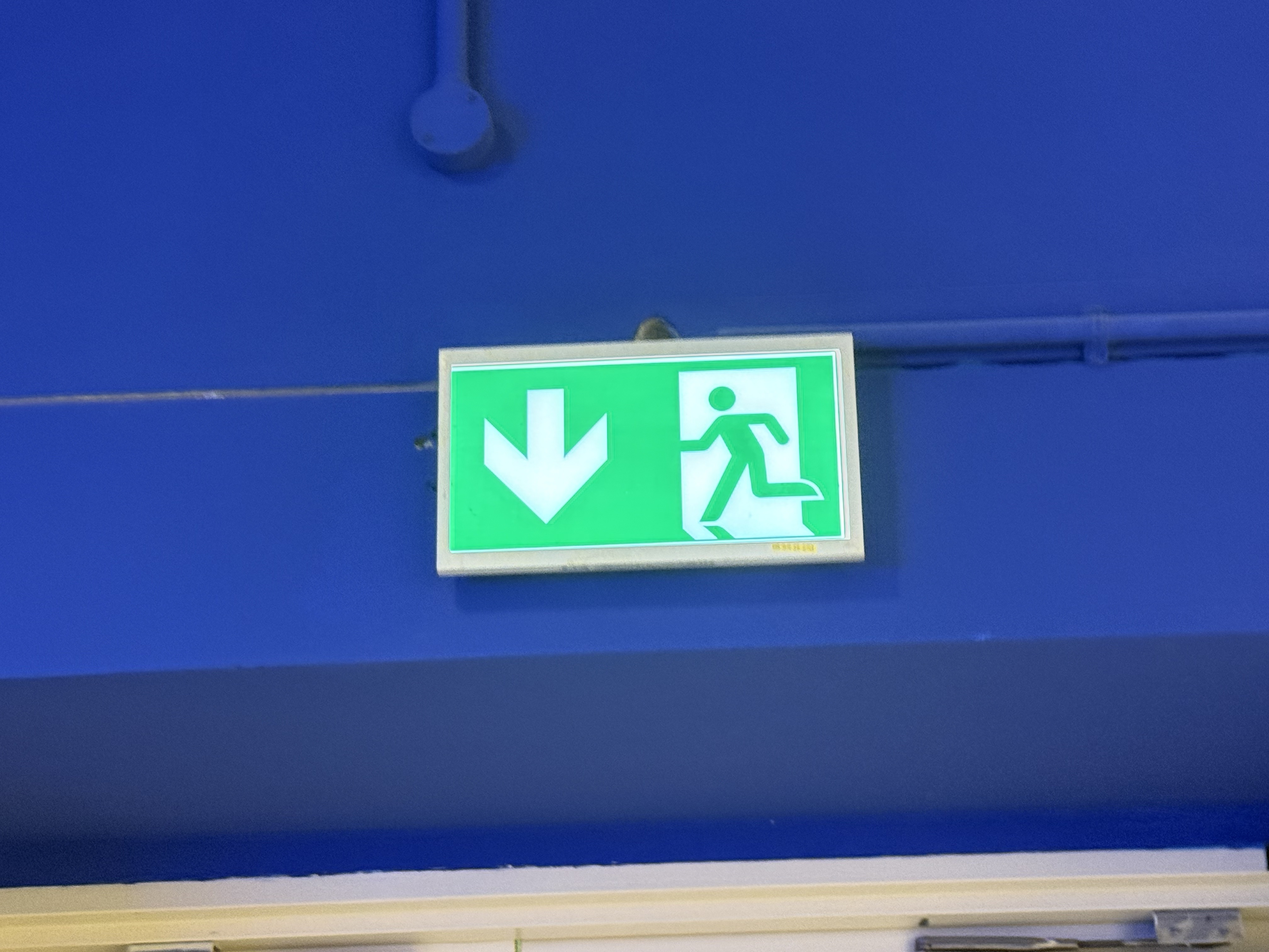emergency_exit: (434, 331, 866, 577)
